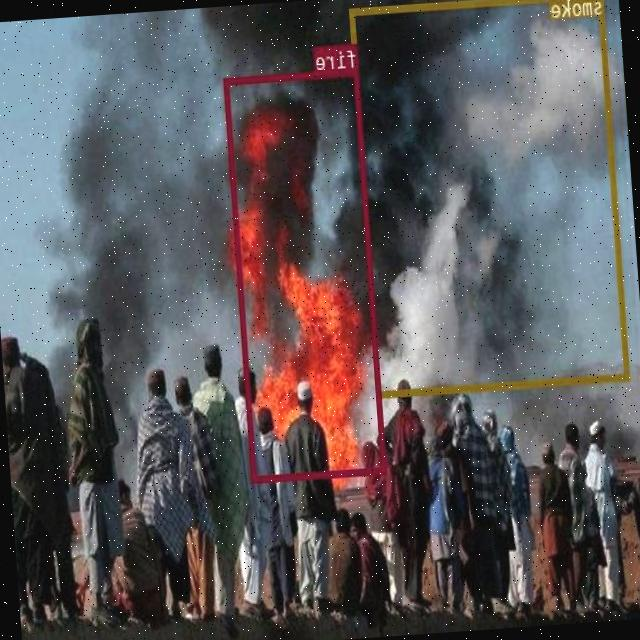fire: (225, 68, 388, 482)
smoke: (349, 0, 630, 397)
